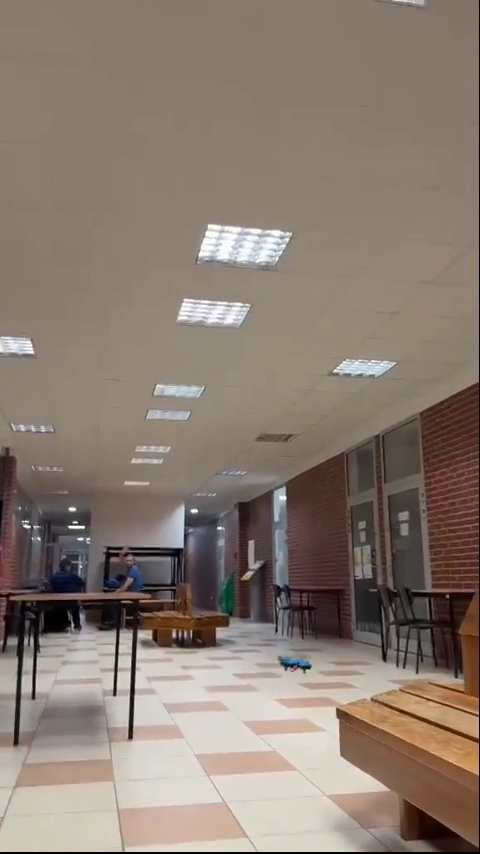drone: (279, 656, 310, 673)
no vest: (48, 553, 88, 597), (109, 551, 148, 592)
